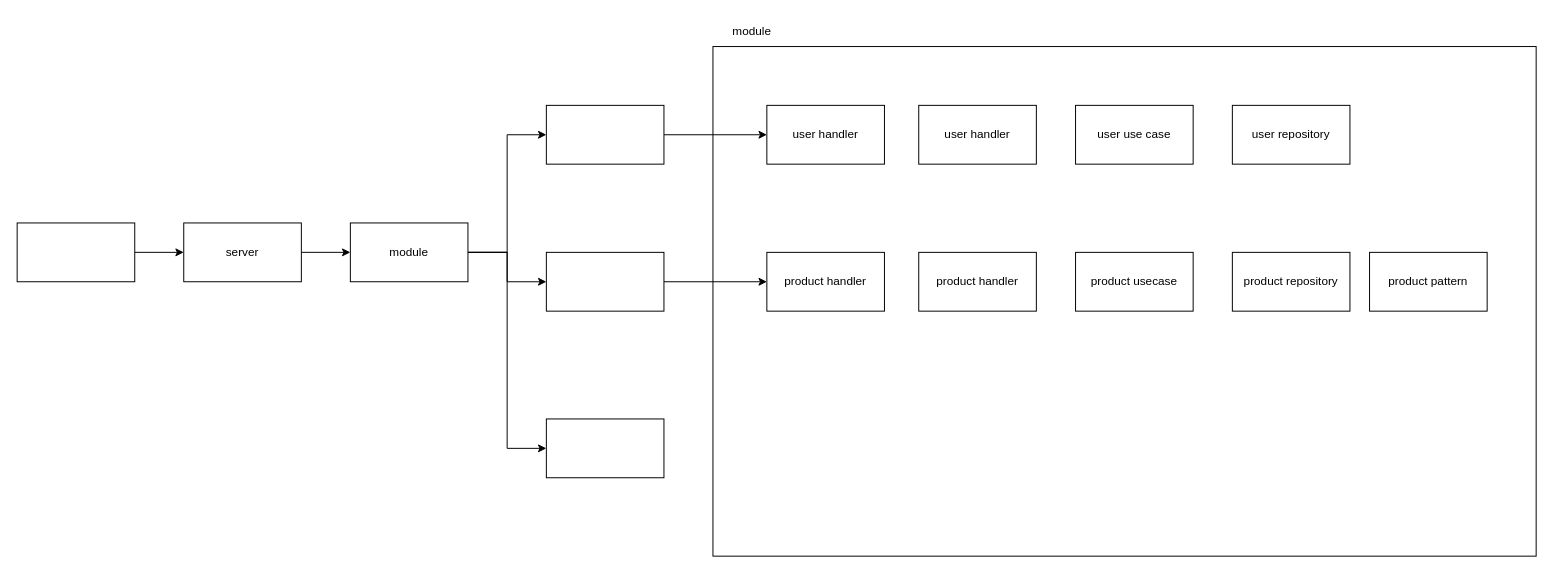
This 1553x573 diagram has some shape labels left out. The shapes that lost their labels are listed below. From the top down, each one's box as (x1, y1, x2, y2) in pixels, then its label:
(545, 104, 664, 164): user module
(16, 222, 135, 282): main
(545, 251, 664, 311): product module
(545, 418, 664, 478): order module
